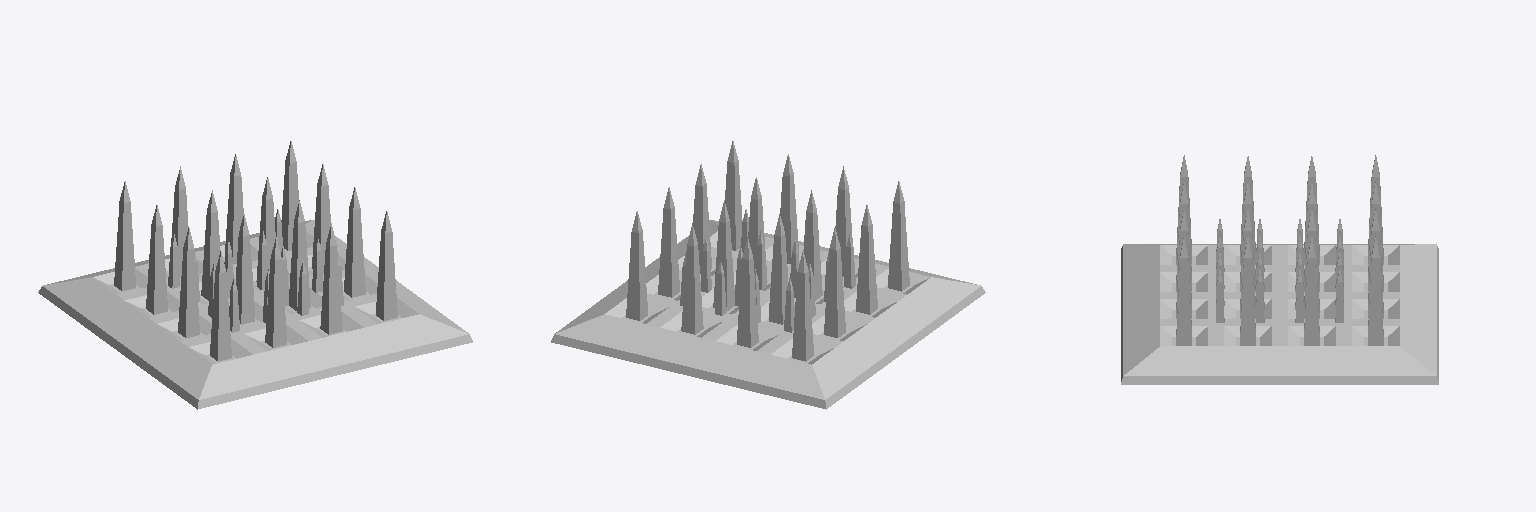
File: spike.obj
3 views of the same model, side by side, from view 1: azimuth 30°, elevation 25°; view 2: azimuth 150°, elevation 25°; view 3: azimuth 270°, elevation 25° (orthographic).
Parts seen in each view (by area): view 1: Spiketrap_spikes_Spikes; view 2: Spiketrap_spikes_Spikes; view 3: Spiketrap_spikes_Spikes.
Part boxes in pixels (x1,y1,x2,y2): Spiketrap_spikes_Spikes: (38,141,472,409); Spiketrap_spikes_Spikes: (551,141,985,409); Spiketrap_spikes_Spikes: (1121,155,1438,384).
Size of the model in its own units: 4 by 1.7 by 4.